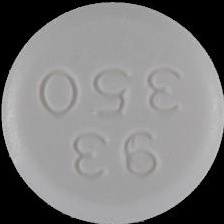42254-145: (0, 0, 224, 224)
